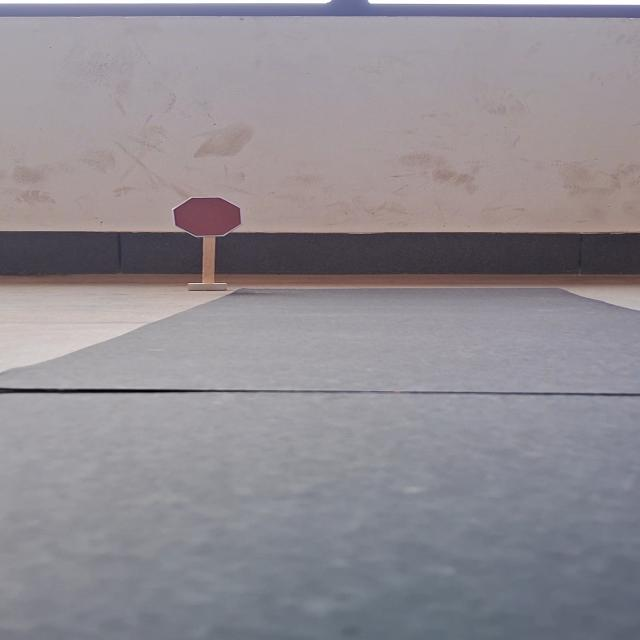Stop: (172, 196, 243, 238)
